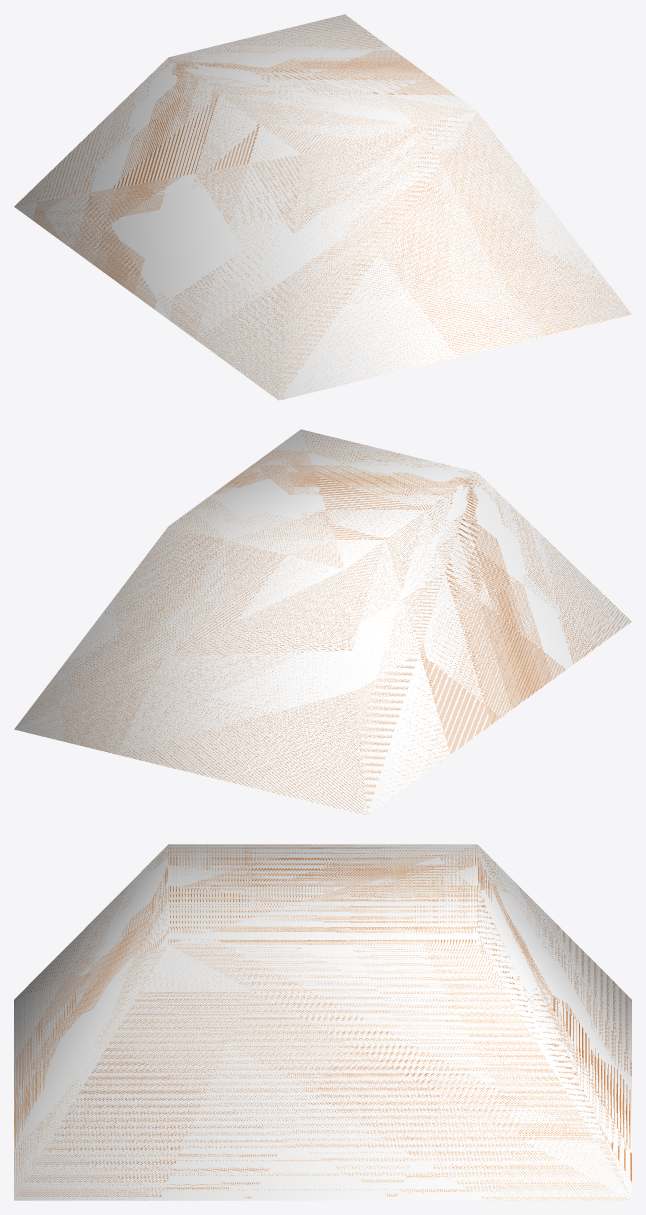
Rendered from original-20.obj.
3 views of the same model, one above another, from view 1: azimuth 30°, elevation 25°; view 2: azimuth 150°, elevation 25°; view 3: azimuth 270°, elevation 25° (orthographic). The views are drawn at different scales.
Parts seen in each view (by area): view 1: Component_5_15/Component_5/mesh4/mesh4-geometry#mesh4-geometry; view 2: Component_5_15/Component_5/mesh4/mesh4-geometry#mesh4-geometry; view 3: Component_5_15/Component_5/mesh4/mesh4-geometry#mesh4-geometry.
Boxes of the visible parts, <box> form: Component_5_15/Component_5/mesh4/mesh4-geometry#mesh4-geometry: <box>14,14,631,400</box>; Component_5_15/Component_5/mesh4/mesh4-geometry#mesh4-geometry: <box>14,429,631,815</box>; Component_5_15/Component_5/mesh4/mesh4-geometry#mesh4-geometry: <box>14,844,631,1200</box>.
Bounding box in the file's own units: 0.0787 × 0.0376 × 0.1023.
